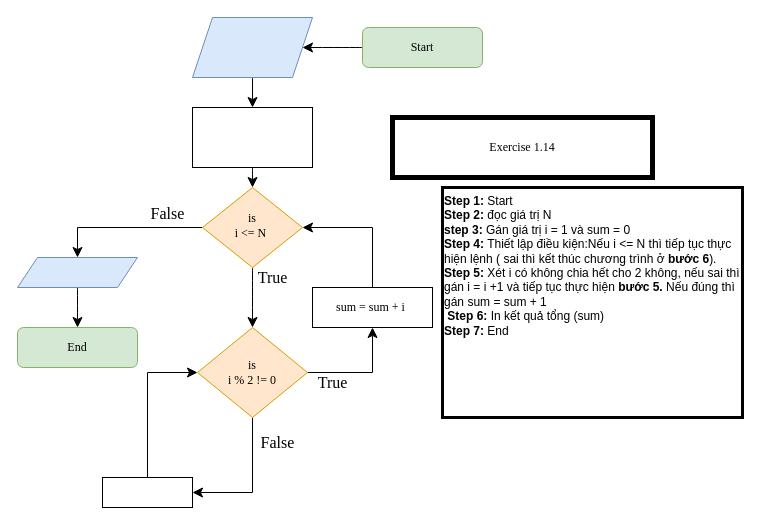
The diagram is 761 pixels wide and 525 high, and some of its shapes have lost their labels. The centre of each missing label's shape, as x and y in pixels:
"i = 1, sum = 0" belongs at [252,137].
"i = i +1" belongs at [147,492].
"Print sum" belongs at [77,272].
"Read N" belongs at [252,47].
